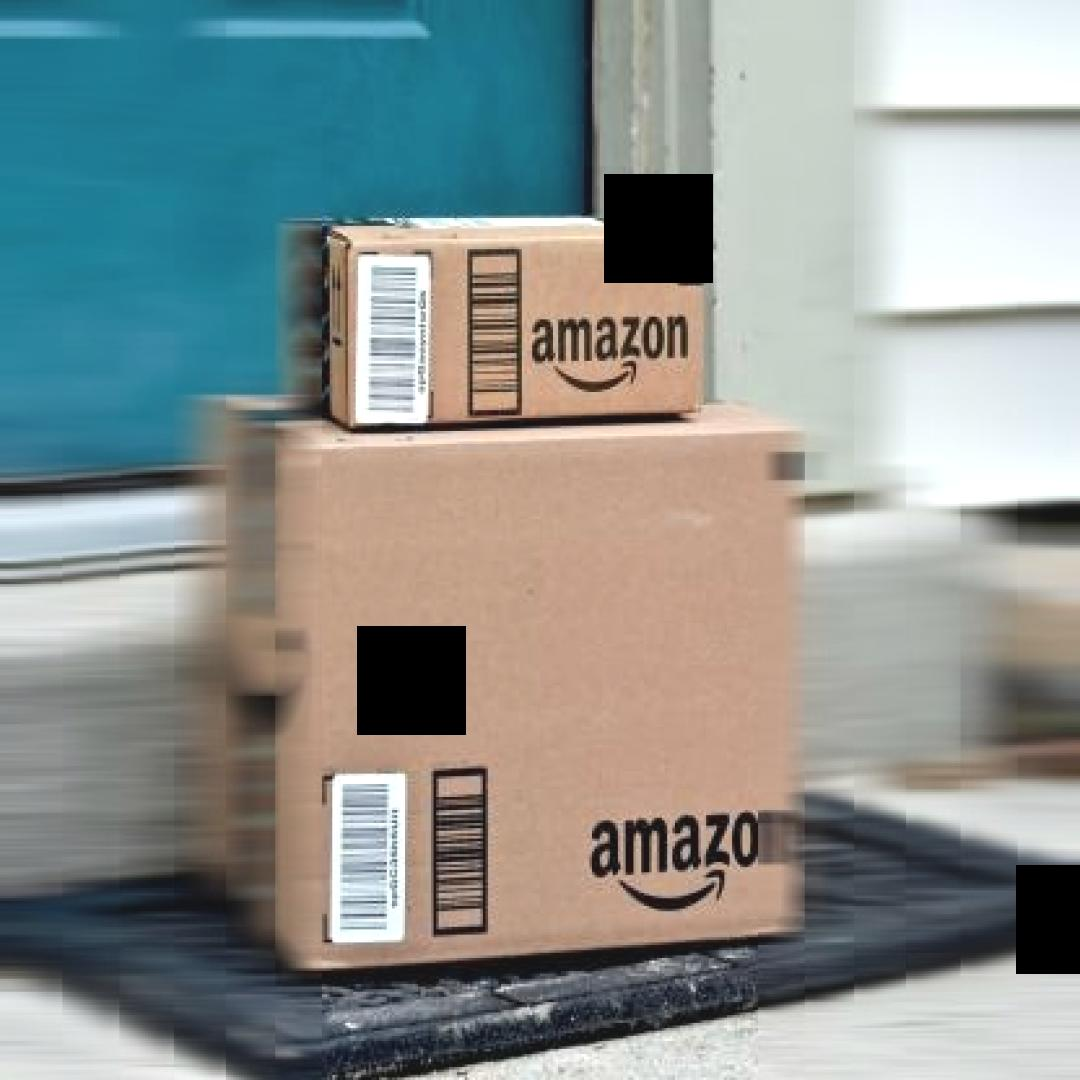package: (194, 387, 818, 976), (280, 202, 722, 439)
